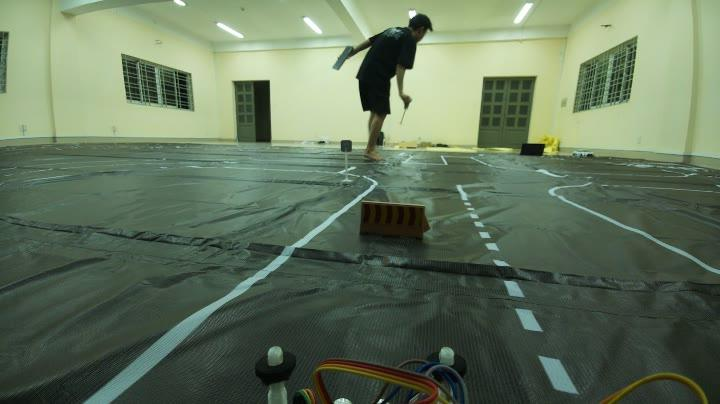roadblock: (358, 190, 436, 252)
